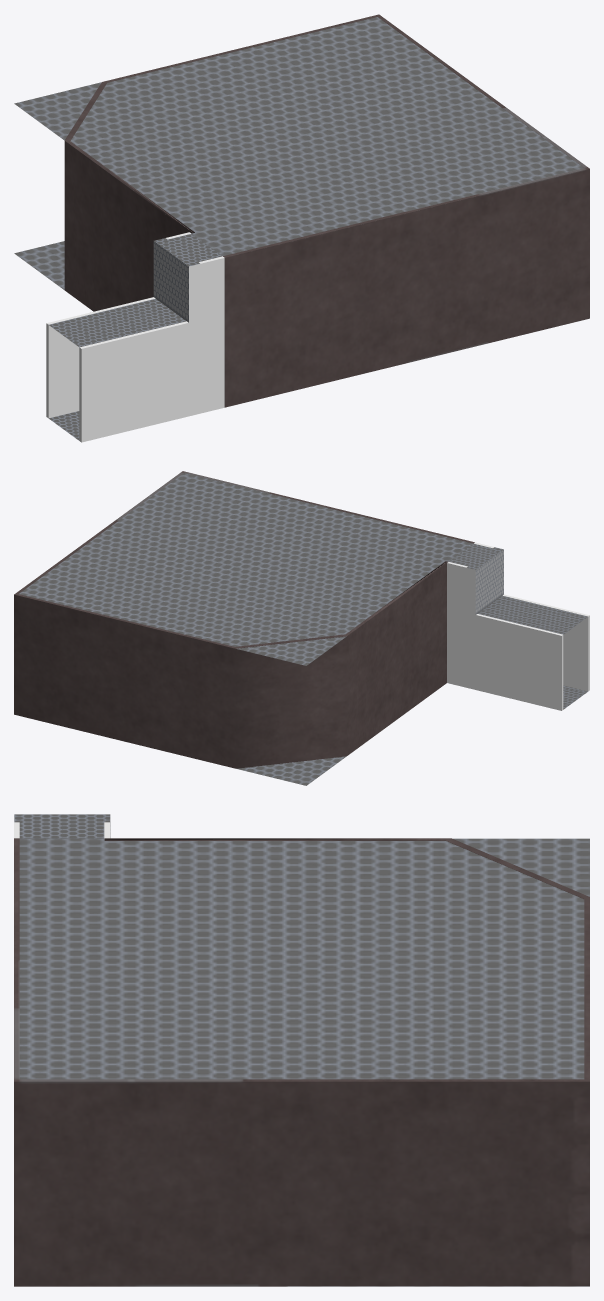
File: warehouse.fbx
3 views of the same model, one above another, from view 1: azimuth 30°, elevation 25°; view 2: azimuth 150°, elevation 25°; view 3: azimuth 270°, elevation 25° (orthographic). The views are drawn at different scales.
Parts seen in each view (by area): view 1: warehouse_03_textures:warehouse_ceiling, warehouse_03_textures:warehouse_wall, g_hall_03_textures:ground_hallway_walls, g_hall_03_textures:g_hall_roof, warehouse_03_textures:warehouse_floor; view 2: warehouse_03_textures:warehouse_wall, warehouse_03_textures:warehouse_ceiling, g_hall_03_textures:ground_hallway_walls, g_hall_03_textures:g_hall_roof, warehouse_03_textures:warehouse_floor; view 3: warehouse_03_textures:warehouse_ceiling, warehouse_03_textures:warehouse_wall, g_hall_03_textures:g_hall_roof.
Part boxes in pixels (bbox=[...]): warehouse_03_textures:warehouse_ceiling: bbox=[14, 17, 583, 256]; warehouse_03_textures:warehouse_wall: bbox=[64, 14, 589, 407]; g_hall_03_textures:ground_hallway_walls: bbox=[46, 232, 224, 442]; g_hall_03_textures:g_hall_roof: bbox=[48, 233, 221, 347]; warehouse_03_textures:warehouse_floor: bbox=[14, 241, 64, 289]; warehouse_03_textures:warehouse_wall: bbox=[14, 471, 474, 768]; warehouse_03_textures:warehouse_ceiling: bbox=[19, 473, 472, 665]; g_hall_03_textures:ground_hallway_walls: bbox=[447, 542, 589, 710]; g_hall_03_textures:g_hall_roof: bbox=[449, 543, 587, 634]; warehouse_03_textures:warehouse_floor: bbox=[236, 756, 346, 785]; warehouse_03_textures:warehouse_ceiling: bbox=[19, 838, 589, 1079]; warehouse_03_textures:warehouse_wall: bbox=[14, 838, 589, 1286]; g_hall_03_textures:g_hall_roof: bbox=[14, 814, 110, 838].
Size of the model in its own units: 2841 by 800 by 2040.
4 materials, 4 textured.
